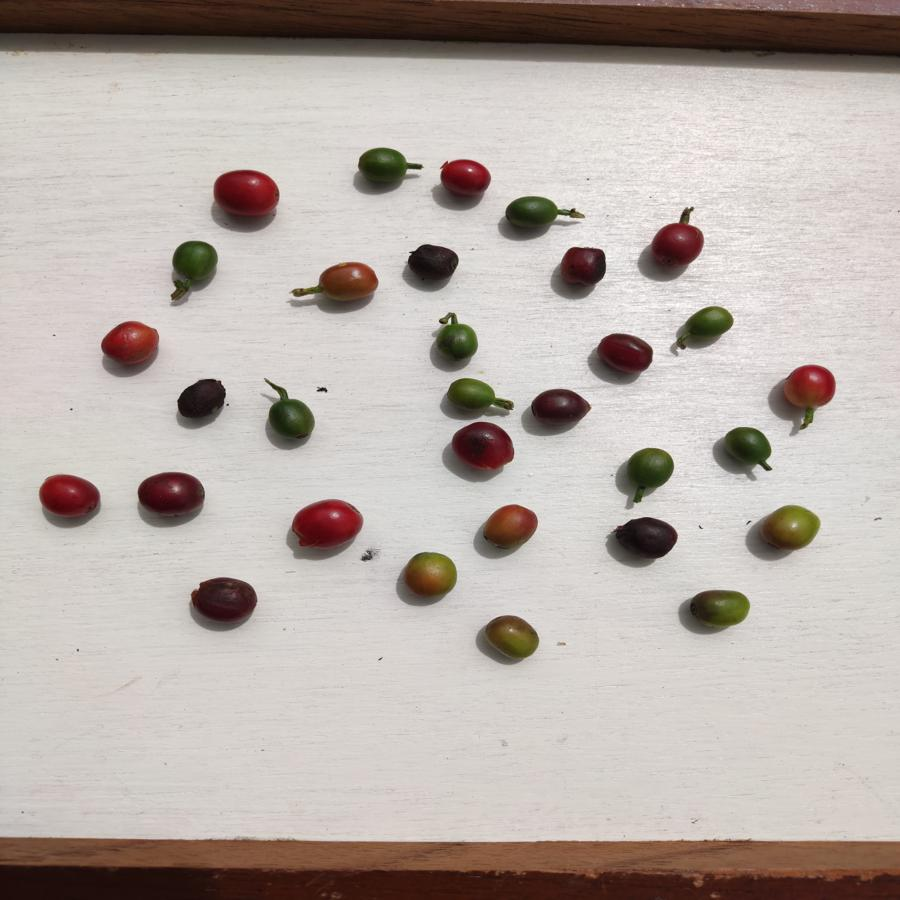Inmaduro: (169, 238, 223, 291), (720, 424, 778, 471), (623, 445, 677, 495), (265, 391, 319, 441), (352, 147, 410, 189), (683, 302, 738, 343), (444, 377, 502, 413), (501, 197, 559, 230), (438, 319, 479, 362)
Maduro: (290, 497, 365, 553), (211, 169, 283, 223), (31, 473, 105, 521), (95, 319, 165, 369), (781, 365, 842, 412), (438, 157, 492, 200)
Pinton: (482, 613, 543, 664), (758, 503, 820, 553), (480, 502, 538, 549), (320, 257, 380, 302), (401, 549, 458, 596), (689, 588, 752, 629)
Sobremaduro: (134, 470, 209, 518), (187, 575, 259, 622), (452, 421, 517, 471), (649, 220, 708, 268), (597, 330, 657, 376), (528, 386, 593, 428), (613, 516, 678, 558), (407, 243, 462, 285), (560, 245, 610, 291), (177, 377, 229, 421)
